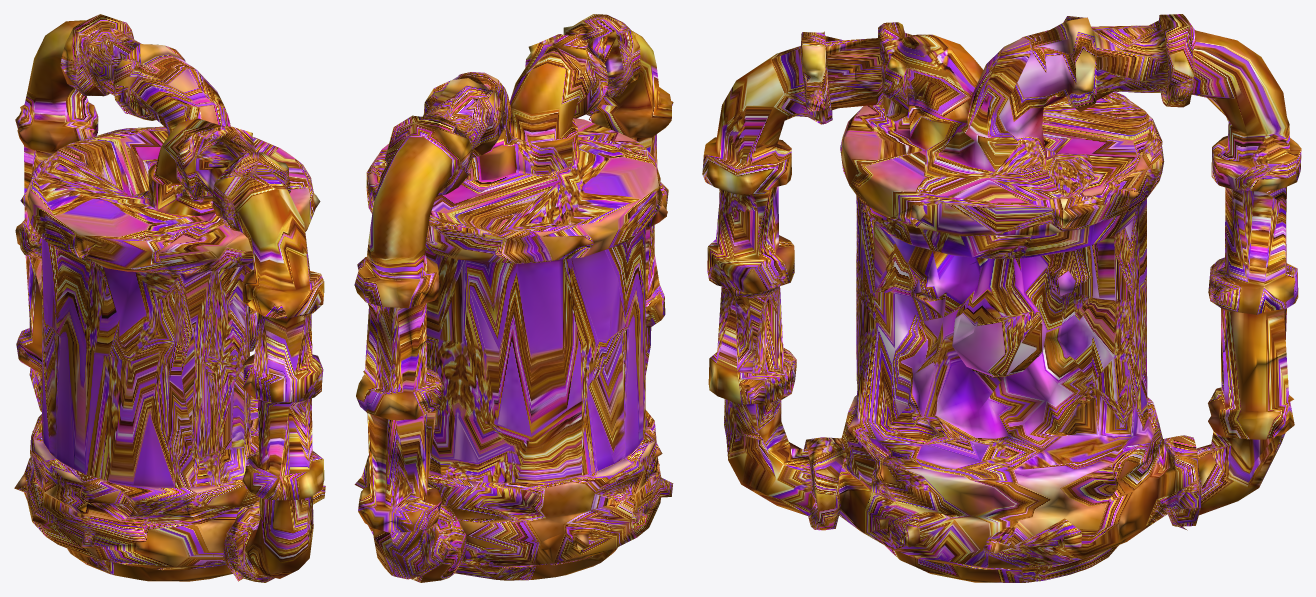
3 renders of one model, left to right at view 1: azimuth 30°, elevation 25°; view 2: azimuth 150°, elevation 25°; view 3: azimuth 270°, elevation 25°, orthographic. The views are drawn at different scales.
Size of the model in its own units: 0.5649 by 0.9382 by 0.9784.
1 material, 1 textured.
